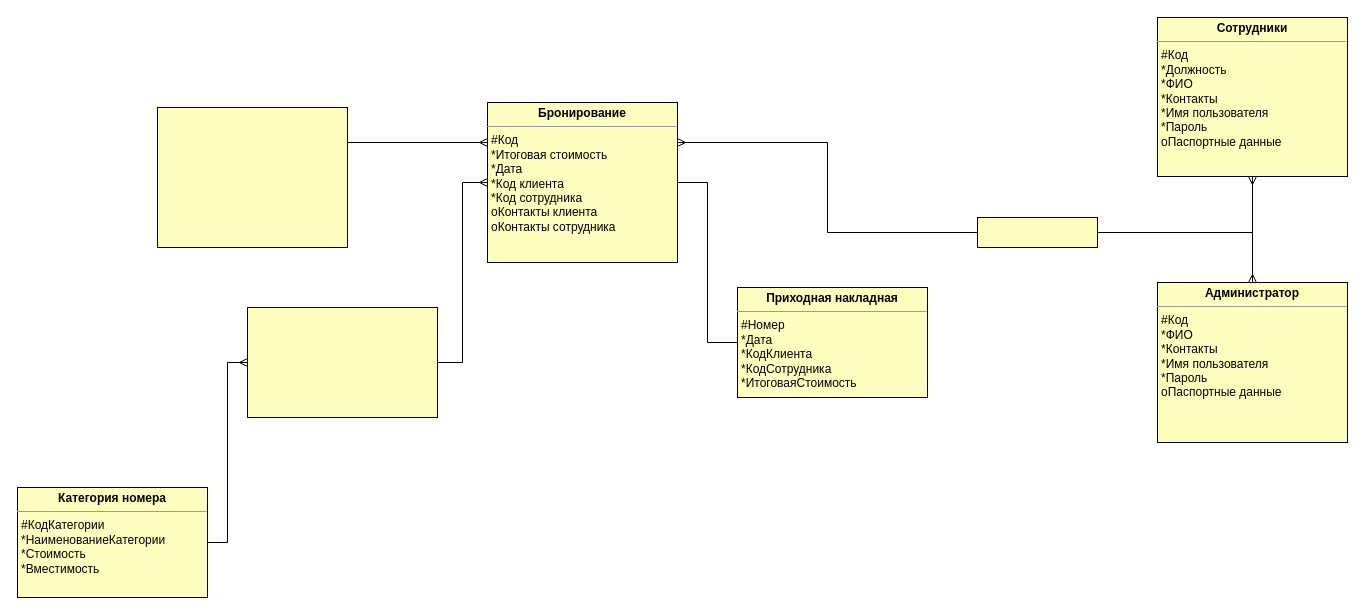
Some shapes in this 1365 by 615 pixel diagram are drawn without their labels. Here are the shapes that lost their labels. From the top down, the centre of each, then its label:
At point (252, 177): "Клиенты #Код *ФИО *Возраст *Паспортные данные *Контакты: *История бронирования".
At point (1037, 232): "Персонал".
At point (342, 362): "Номер #Код *Категория *Статус *Готовность номера".
